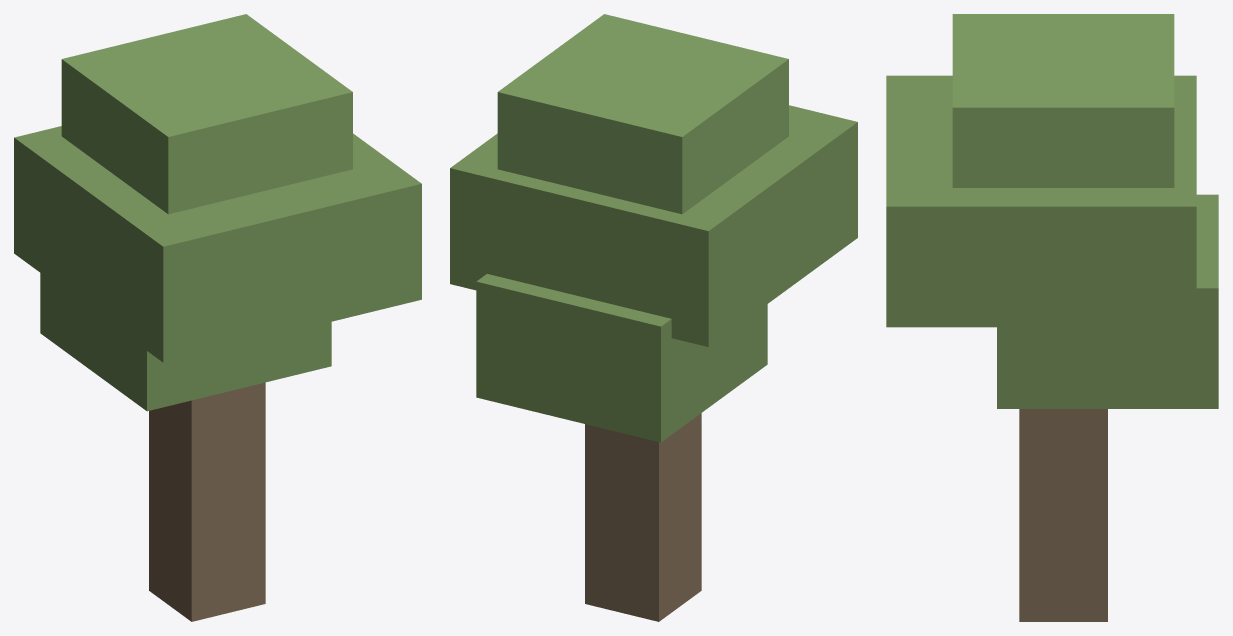
Rendered from olmo_05.glb.
The picture shows the model from 3 angles, left to right: view 1: azimuth 30°, elevation 25°; view 2: azimuth 150°, elevation 25°; view 3: azimuth 270°, elevation 25°; orthographic projection. The views are drawn at different scales.
Parts seen in each view (by area): view 1: olmo_05; view 2: olmo_05; view 3: olmo_05.
Boxes of the visible parts, x1,y1,x2,y2 form: olmo_05: [14, 14, 421, 621]; olmo_05: [450, 14, 857, 621]; olmo_05: [886, 14, 1218, 621].
Size of the model in its own units: 1.4 by 2.7 by 1.5.
